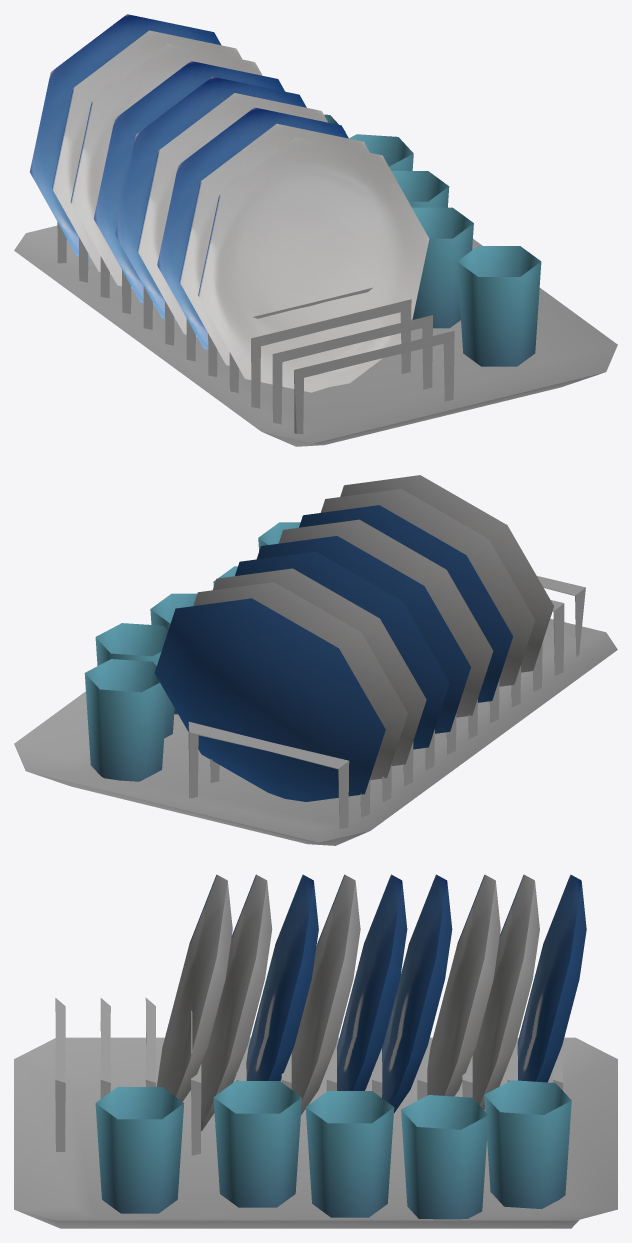
The model's file is Plate_rack-col.glb.
The picture shows the model from 3 angles, top to bottom: view 1: azimuth 30°, elevation 25°; view 2: azimuth 150°, elevation 25°; view 3: azimuth 270°, elevation 25°; orthographic projection. The views are drawn at different scales.
Parts seen in each view (by area): view 1: Plate_rack-col; view 2: Plate_rack-col; view 3: Plate_rack-col.
Boxes of the visible parts, box(x1,y1,x2,y2) form: Plate_rack-col: box(14, 14, 617, 446); Plate_rack-col: box(14, 475, 617, 845); Plate_rack-col: box(14, 874, 617, 1228).
Bounding box in the file's own units: 0.5061 × 0.3158 × 0.7064.
1 material, 1 textured.
